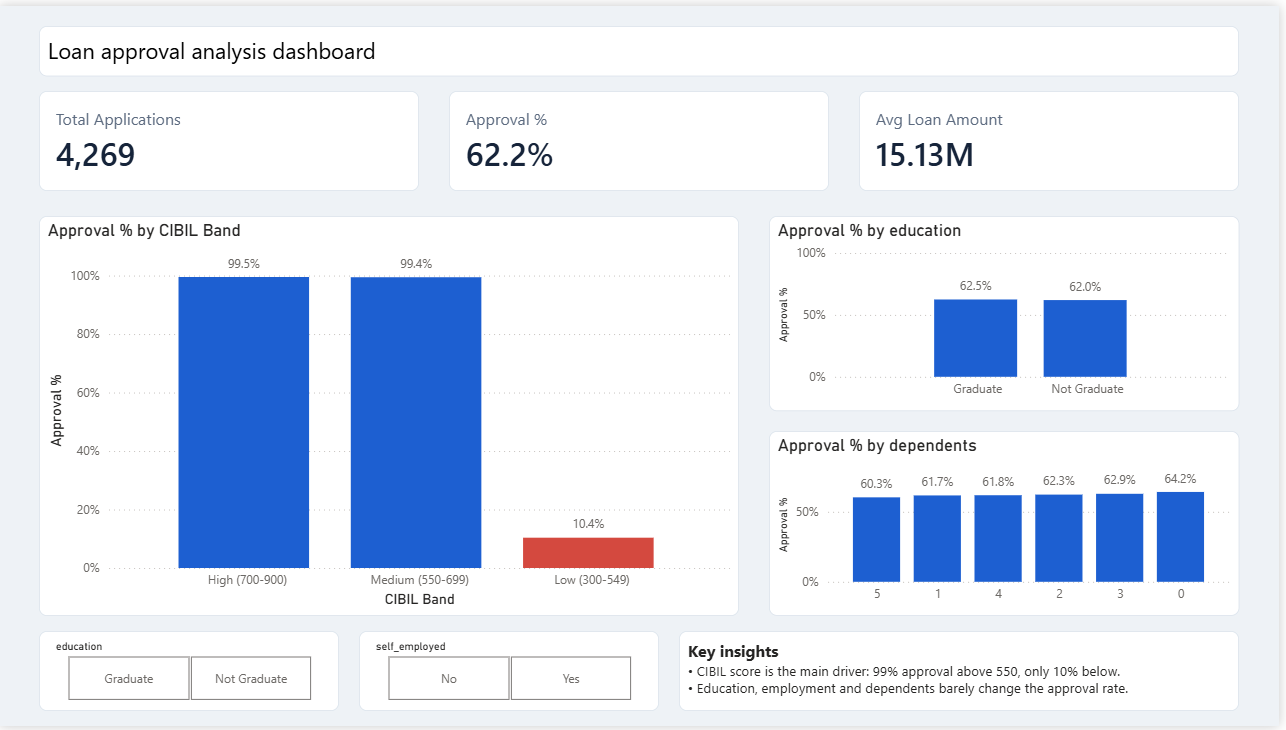

The page's visual inventory and layout, read from the dashboard file:
{"tool":"powerbi","page":{"name":"Page 1","canvas":[1280,720],"ordinal":0},"visuals":[{"type":"clusteredColumnChart","fields":{"Category":["loans.CIBIL Band"],"Y":["loans.Approval %"]},"box":[40,210,700,400],"z":0},{"type":"clusteredColumnChart","fields":{"Category":["loans.education"],"Y":["loans.Approval %"]},"box":[770,210,470,195],"z":1000},{"type":"slicer","fields":{"Values":["loans.education"]},"box":[40,625,300,80],"z":2000},{"type":"slicer","fields":{"Values":["loans.self_employed"]},"box":[360,625,300,80],"z":3000},{"type":"cardVisual","fields":{"Data":["loans.Approval %"]},"box":[450,85,380,100],"z":6001},{"type":"cardVisual","fields":{"Data":["loans.Total Applications"]},"box":[40,85,380,100],"z":6002},{"type":"cardVisual","fields":{"Data":["loans.Avg Loan Amount"]},"box":[860,85,380,100],"z":6003},{"type":"clusteredColumnChart","title":"Approval % by dependents","fields":{"Category":["loans.no_of_dependents"],"Y":["loans.Approval %"]},"box":[770,425,470,185],"z":6004},{"type":"textbox","box":[40,20,1200,50],"z":6005},{"type":"textbox","box":[680,625,560,80],"z":6006}]}

Visuals, with their boxes in screenshot pixels (x1, y1, x2, y2), scaled from the page's 1280x720 canvas onto the 1286x730 screenshot:
clusteredColumnChart - loans.CIBIL Band x loans.Approval %: (x1=40, y1=213, x2=743, y2=618)
clusteredColumnChart - loans.education x loans.Approval %: (x1=774, y1=213, x2=1246, y2=411)
slicer - loans.education: (x1=40, y1=634, x2=342, y2=715)
slicer - loans.self_employed: (x1=362, y1=634, x2=663, y2=715)
cardVisual - loans.Approval %: (x1=452, y1=86, x2=834, y2=188)
cardVisual - loans.Total Applications: (x1=40, y1=86, x2=422, y2=188)
cardVisual - loans.Avg Loan Amount: (x1=864, y1=86, x2=1246, y2=188)
"Approval % by dependents" clusteredColumnChart: (x1=774, y1=431, x2=1246, y2=618)
textbox: (x1=40, y1=20, x2=1246, y2=71)
textbox: (x1=683, y1=634, x2=1246, y2=715)
